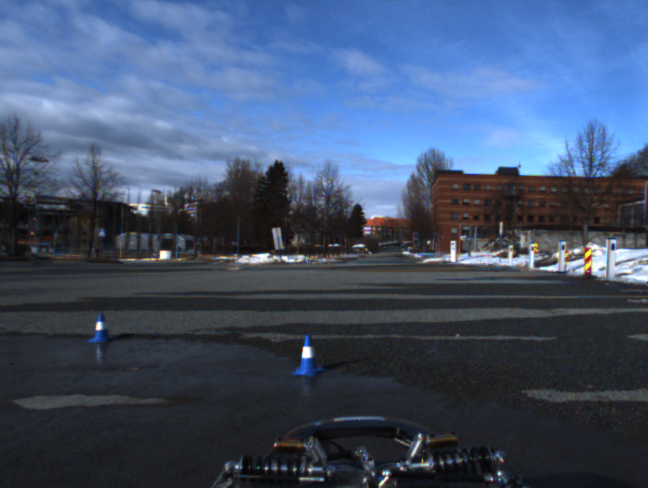cone-small-blue: (291, 334, 327, 377), (87, 313, 115, 343)
